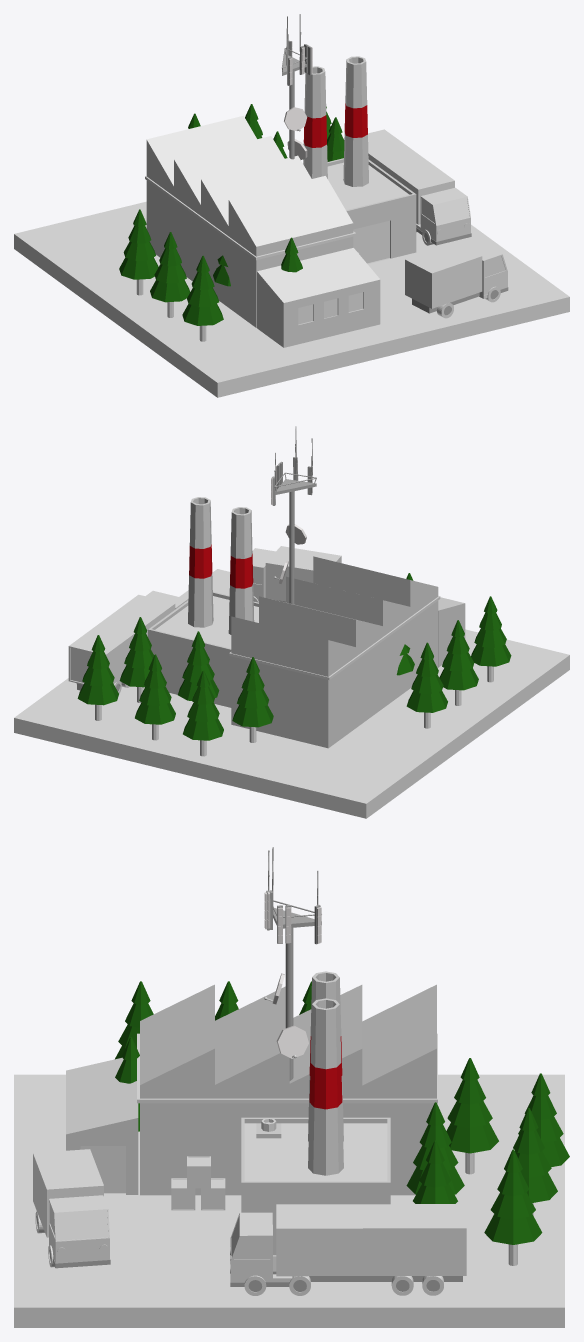
File: communications tower.fbx
3 renders of one model, top to bottom at view 1: azimuth 30°, elevation 25°; view 2: azimuth 150°, elevation 25°; view 3: azimuth 270°, elevation 25°, orthographic. The views are drawn at different scales.
Visible parts, largest first — view 1: Cylinder.006, Cube, Cube.042, Cube.006, Cylinder.001, Cylinder.022, Cylinder.023, Cylinder.020; view 2: Cylinder.006, Cube, Cube.006, Cube.042, Cylinder.009, Cylinder.023, Cylinder.011, Cylinder.035, Cylinder.010, Cylinder.001, Cylinder.022, Cylinder.020 (+2 smaller); view 3: Cylinder.006, Cube, Cube.006, Cube.042, Cylinder.035, Cylinder.009, Cylinder.011, Cylinder.019, Cylinder.010, Cylinder.020, Cylinder.001, Cylinder (+5 smaller).
Part boxes in pixels (x1,y1,x2,y2): Cylinder.006: [145, 56, 416, 347]; Cube: [14, 163, 569, 397]; Cube.042: [405, 241, 508, 318]; Cube.006: [368, 129, 471, 245]; Cylinder.001: [182, 255, 223, 341]; Cylinder.022: [150, 232, 190, 317]; Cylinder.023: [119, 209, 158, 295]; Cylinder.020: [327, 117, 344, 161]; Cylinder.006: [148, 497, 465, 748]; Cube: [14, 569, 569, 818]; Cube.006: [68, 590, 187, 693]; Cube.042: [252, 546, 341, 602]; Cylinder.009: [232, 657, 273, 742]; Cylinder.023: [406, 642, 447, 728]; Cylinder.011: [135, 654, 175, 740]; Cylinder.035: [77, 635, 118, 720]; Cylinder.010: [183, 670, 223, 756]; Cylinder.001: [471, 596, 511, 682]; Cylinder.022: [439, 620, 478, 705]; Cylinder.020: [119, 617, 154, 702]; Cylinder.006: [66, 971, 437, 1255]; Cube: [14, 1074, 564, 1327]; Cube.006: [230, 1204, 466, 1295]; Cube.042: [33, 1149, 110, 1268]; Cylinder.035: [484, 1149, 542, 1265]; Cylinder.009: [446, 1058, 498, 1174]; Cylinder.011: [513, 1108, 557, 1215]; Cylinder.019: [406, 1102, 464, 1194]; Cylinder.010: [515, 1073, 569, 1167]; Cylinder.020: [413, 1140, 457, 1203]; Cylinder.001: [115, 981, 153, 1059]; Cylinder: [285, 928, 293, 1080].
Size of the model in its own units: 1818 by 1331 by 1835.
